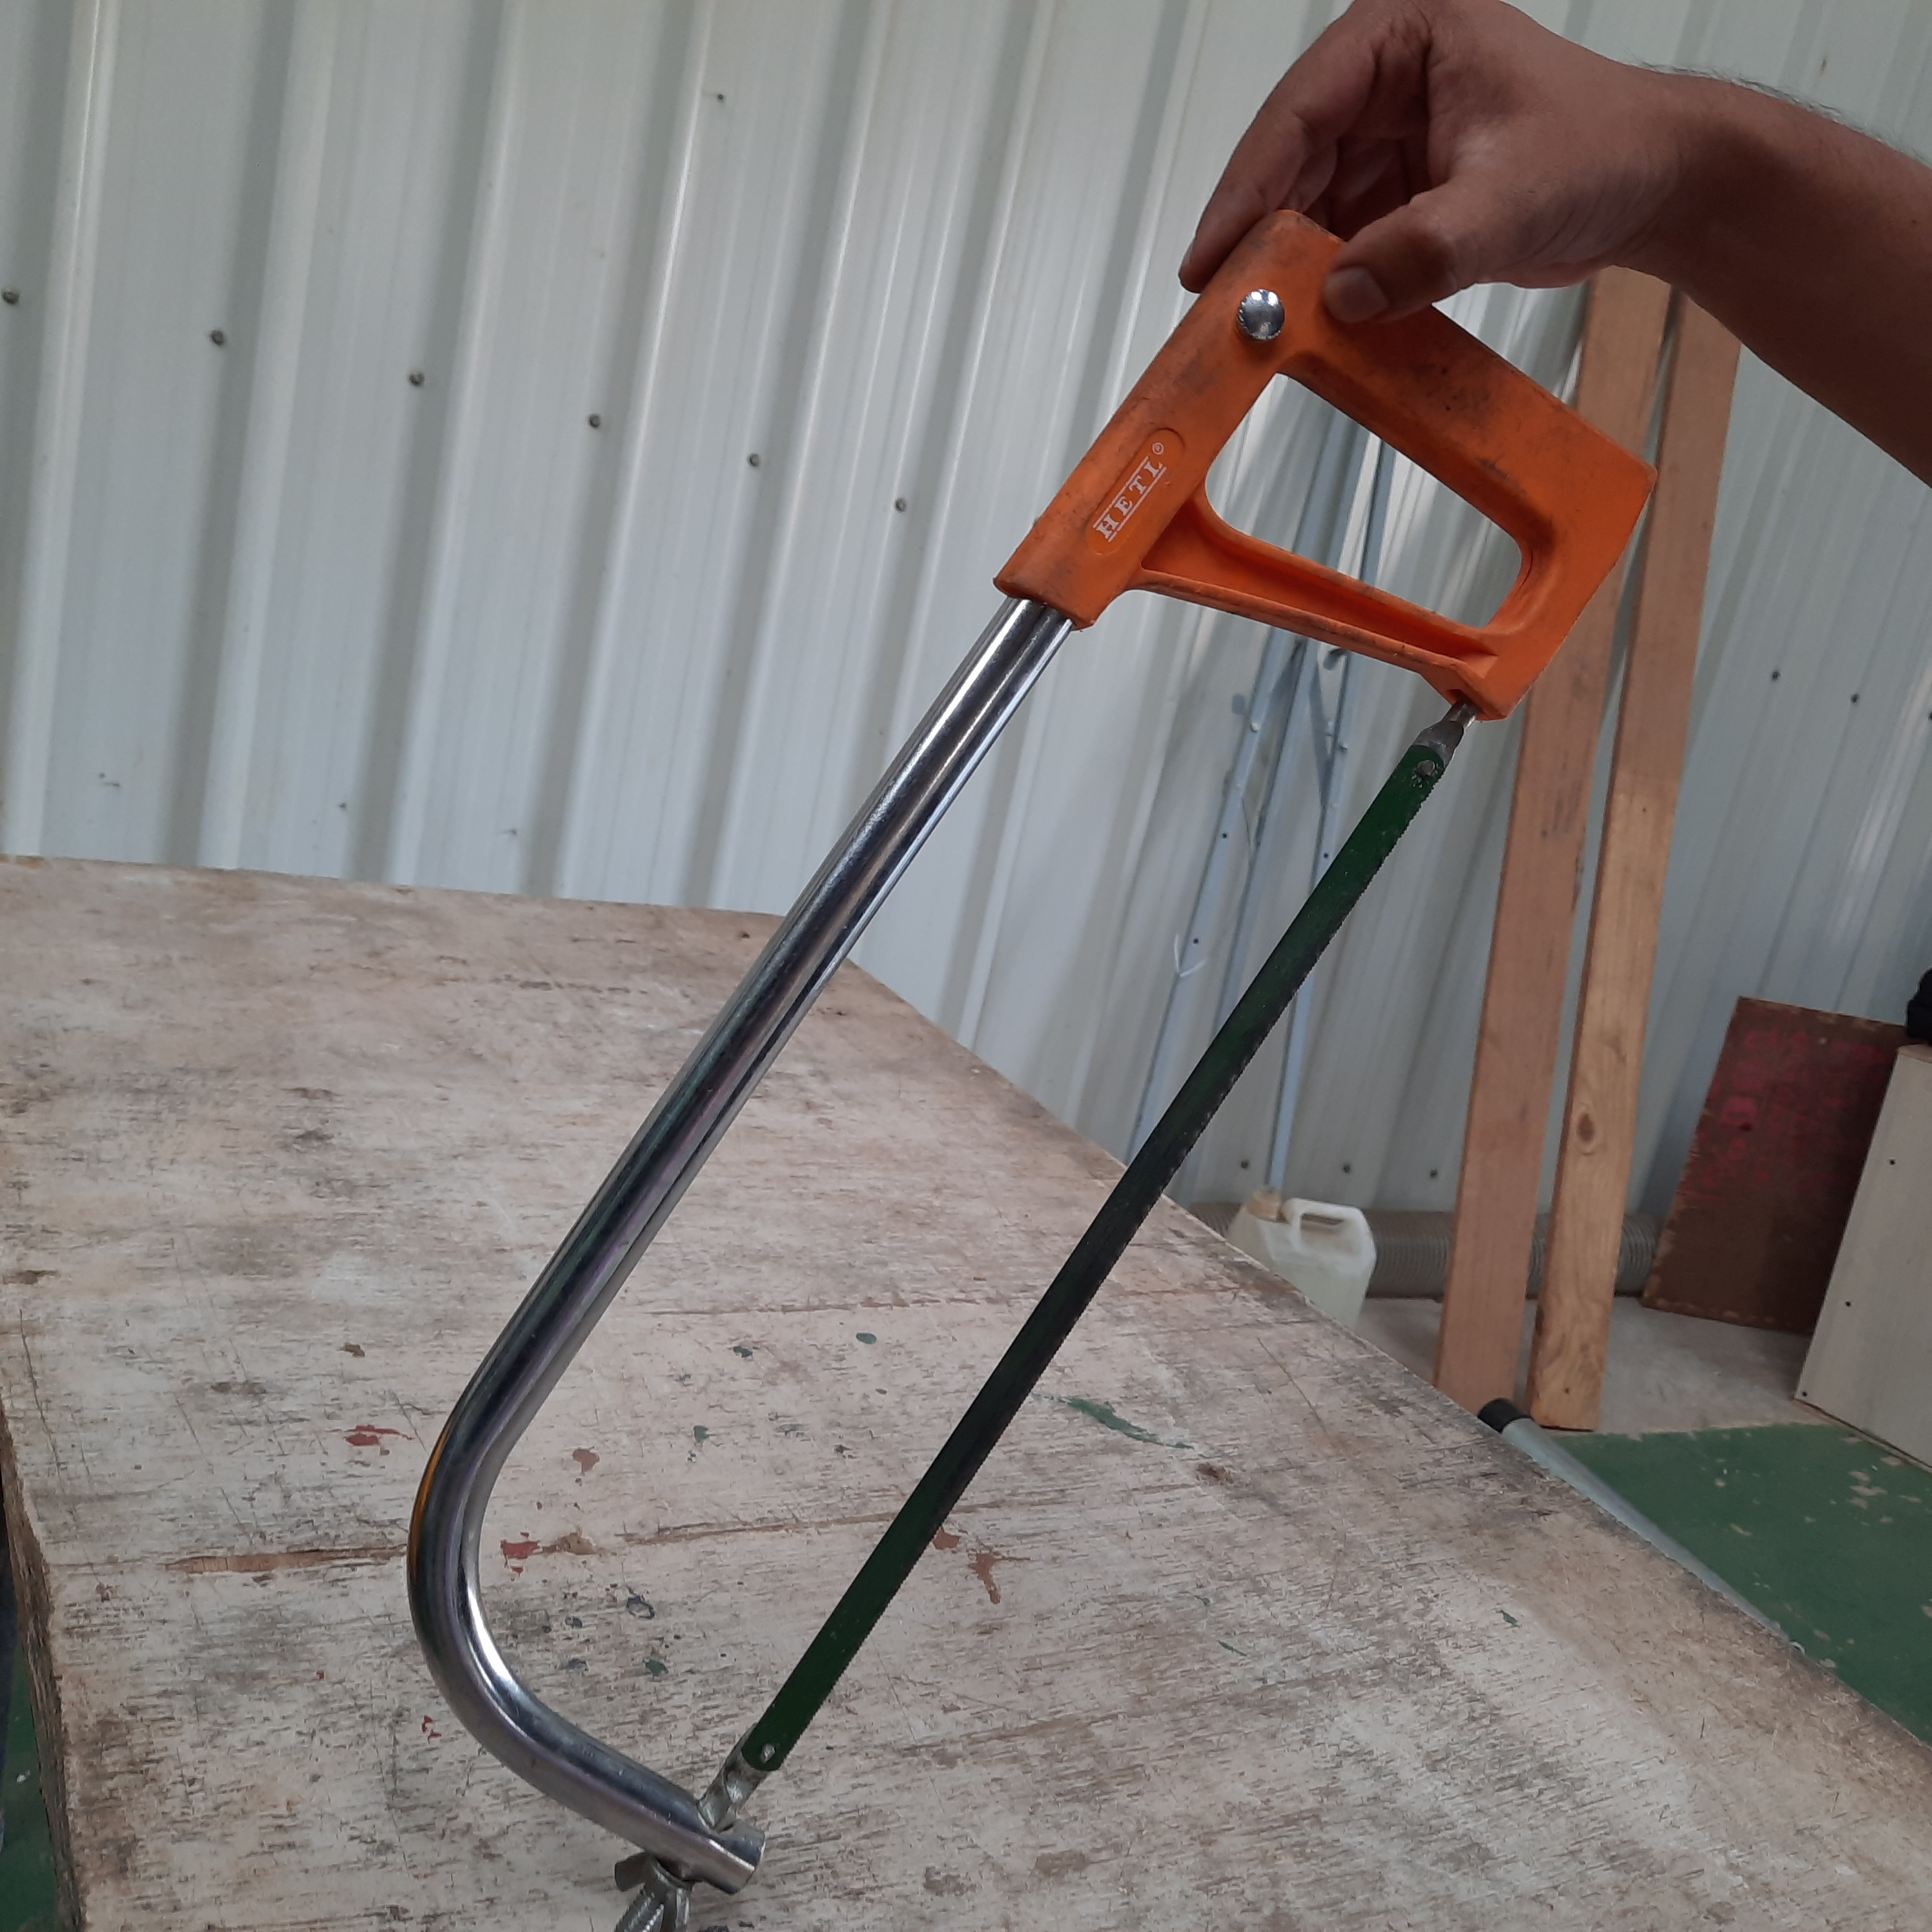Hexaframe: (373, 191, 1672, 1932)
